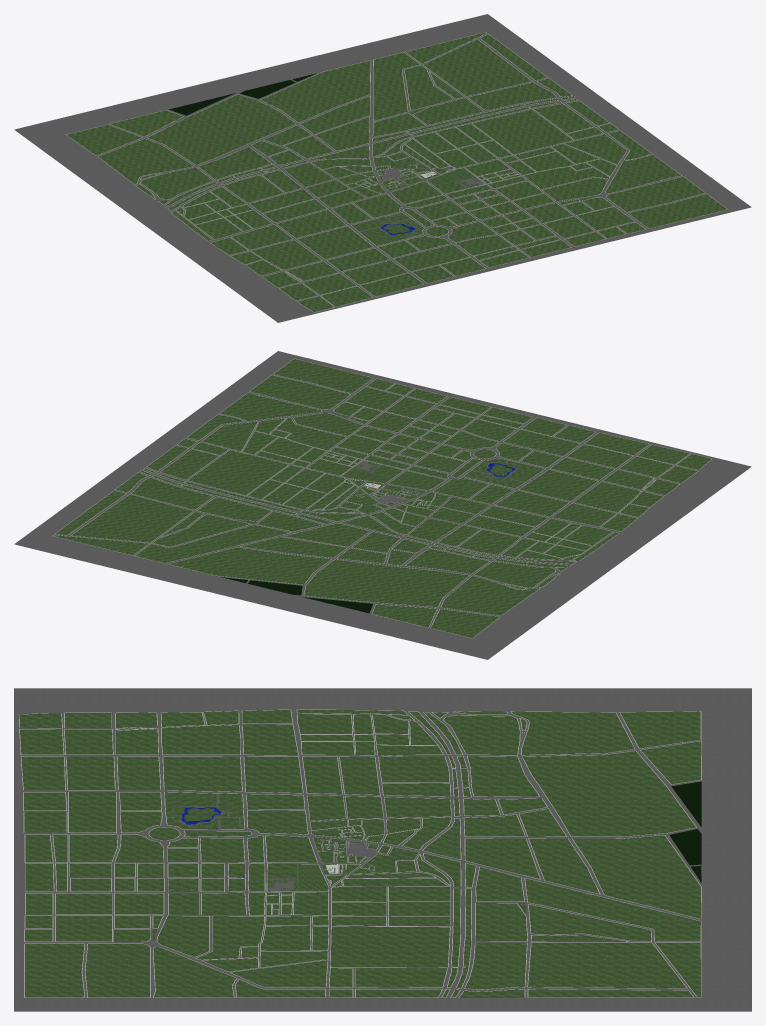
The model's file is dixing.FBX.
The picture shows the model from 3 angles, top to bottom: view 1: azimuth 30°, elevation 25°; view 2: azimuth 150°, elevation 25°; view 3: azimuth 270°, elevation 25°; orthographic projection. The views are drawn at different scales.
Parts seen in each view (by area): view 1: Object22719, Plane162, Object22717, Object22723; view 2: Object22719, Plane162, Object22717, Object22723; view 3: Object22719, Plane162, Object22717, Object22723, Object22722.
Boxes of the visible parts, bbox=[...] form: Object22719: bbox=[66, 32, 727, 311]; Plane162: bbox=[14, 14, 751, 322]; Object22717: bbox=[65, 32, 727, 312]; Object22723: bbox=[169, 73, 316, 115]; Object22719: bbox=[53, 359, 711, 638]; Plane162: bbox=[14, 351, 751, 659]; Object22717: bbox=[52, 358, 711, 638]; Object22723: bbox=[222, 577, 372, 613]; Object22719: bbox=[19, 710, 701, 997]; Plane162: bbox=[14, 688, 751, 1011]; Object22717: bbox=[18, 709, 701, 997]; Object22723: bbox=[669, 781, 701, 882]; Object22722: bbox=[307, 795, 451, 873].
Bounding box in the file's own units: 68229 × 65882 × 1.
